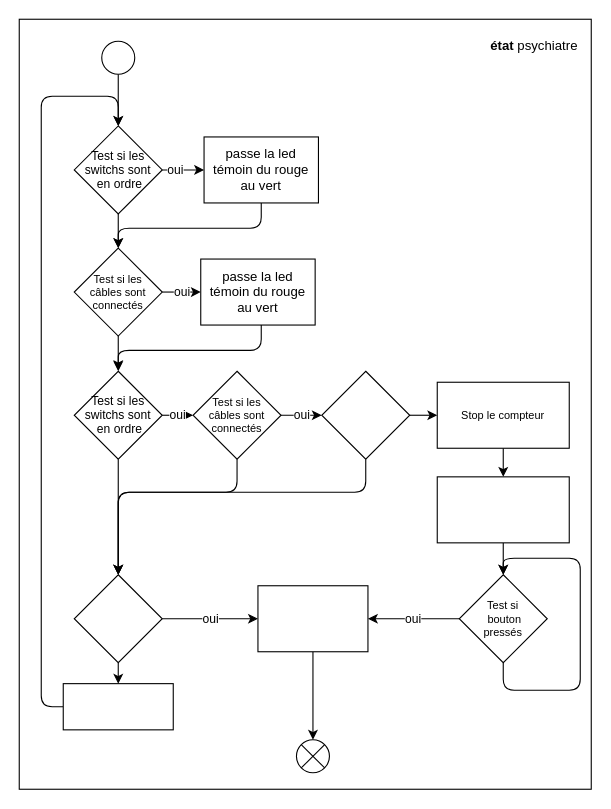
Some shapes in this 611 by 809 pixel diagram are drawn without their labels. The box of each missing label's shape, as (x1, y1, x2, y2) in pixels:
Démarre musique de fin: (436, 476, 569, 543)
passe à l'état initial: (257, 585, 368, 652)
Reprend les tests: (62, 683, 173, 730)
Test bouton reset (interne): (73, 574, 162, 663)
Test si les 4 boutons pressés: (321, 370, 410, 459)
